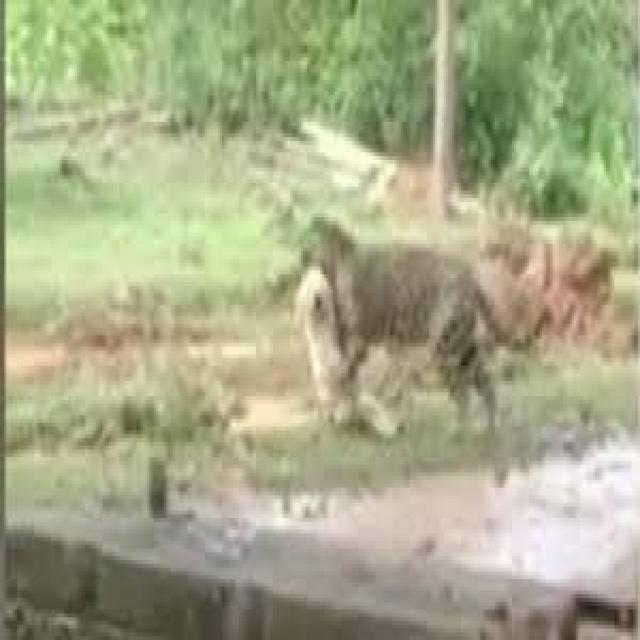Jaguar: (286, 210, 552, 434)
